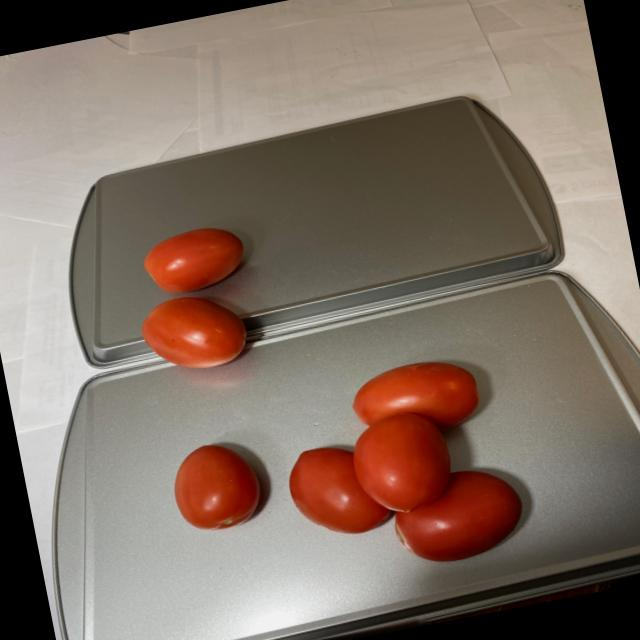tomato: (150, 347, 538, 614), (127, 220, 265, 388)
